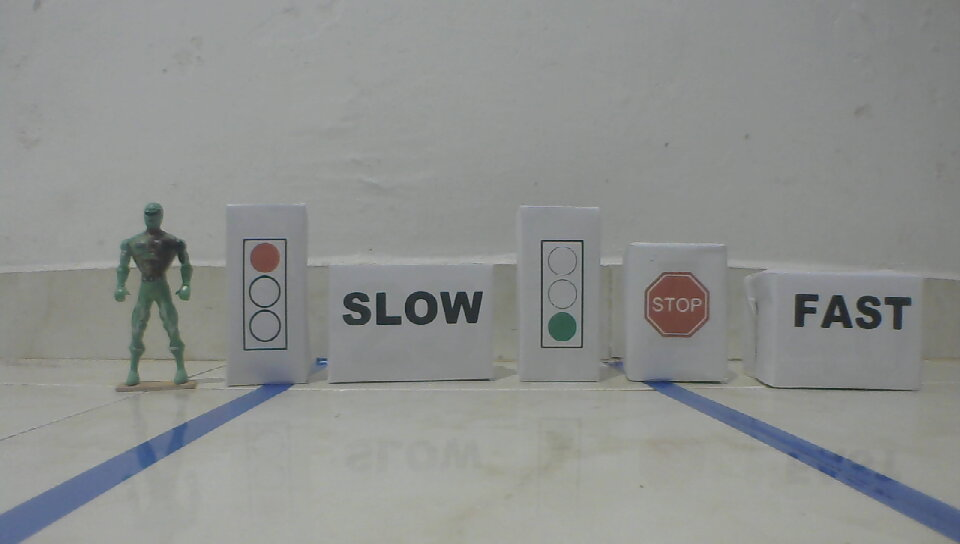Fast: (793, 291, 915, 334)
Green Traffic Light: (539, 237, 587, 353)
Person: (111, 199, 198, 389)
Red Traffic Light: (240, 236, 291, 356)
Slow: (342, 290, 485, 327)
Stop Sign: (641, 270, 713, 341)
